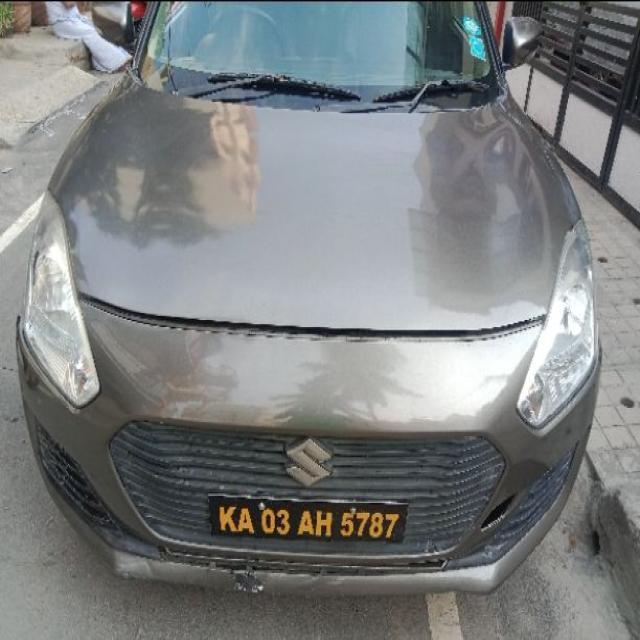license_plate: (16, 0, 603, 597), (206, 492, 409, 543)
